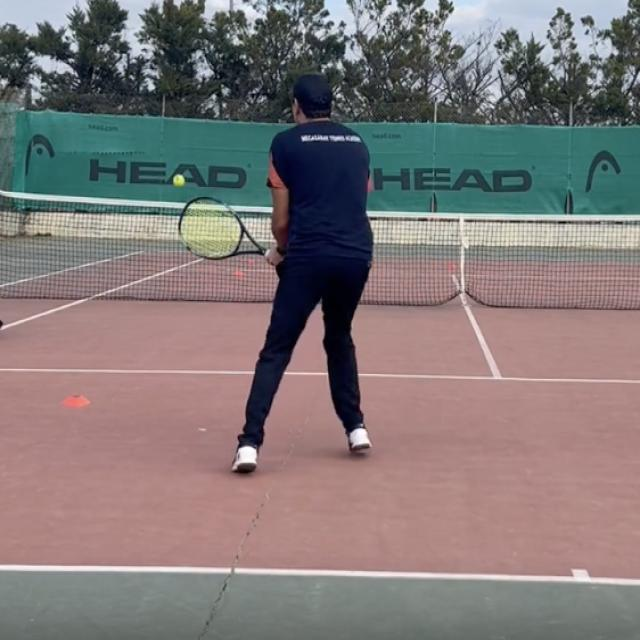ball: (173, 174, 185, 187)
